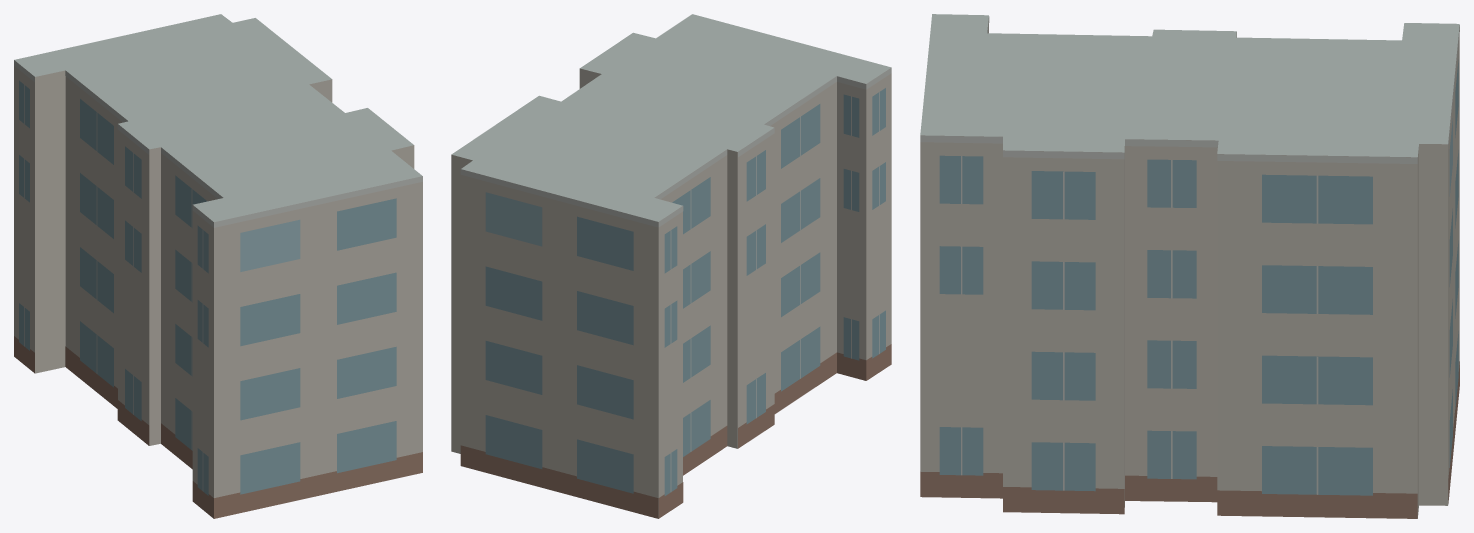
Rendered from survey-upis-32953532.glb.
The picture shows the model from 3 angles, left to right: view 1: azimuth 30°, elevation 25°; view 2: azimuth 150°, elevation 25°; view 3: azimuth 270°, elevation 25°; orthographic projection. The views are drawn at different scales.
Parts seen in each view (by area): view 1: survey-upis-32953532.tmp; view 2: survey-upis-32953532.tmp; view 3: survey-upis-32953532.tmp.
Part boxes in pixels (box(x1,y1,x2,y2)): survey-upis-32953532.tmp: box(14, 14, 422, 518); survey-upis-32953532.tmp: box(451, 14, 891, 518); survey-upis-32953532.tmp: box(920, 14, 1459, 518).
Size of the model in its own units: 10.9 by 12.82 by 17.35.
